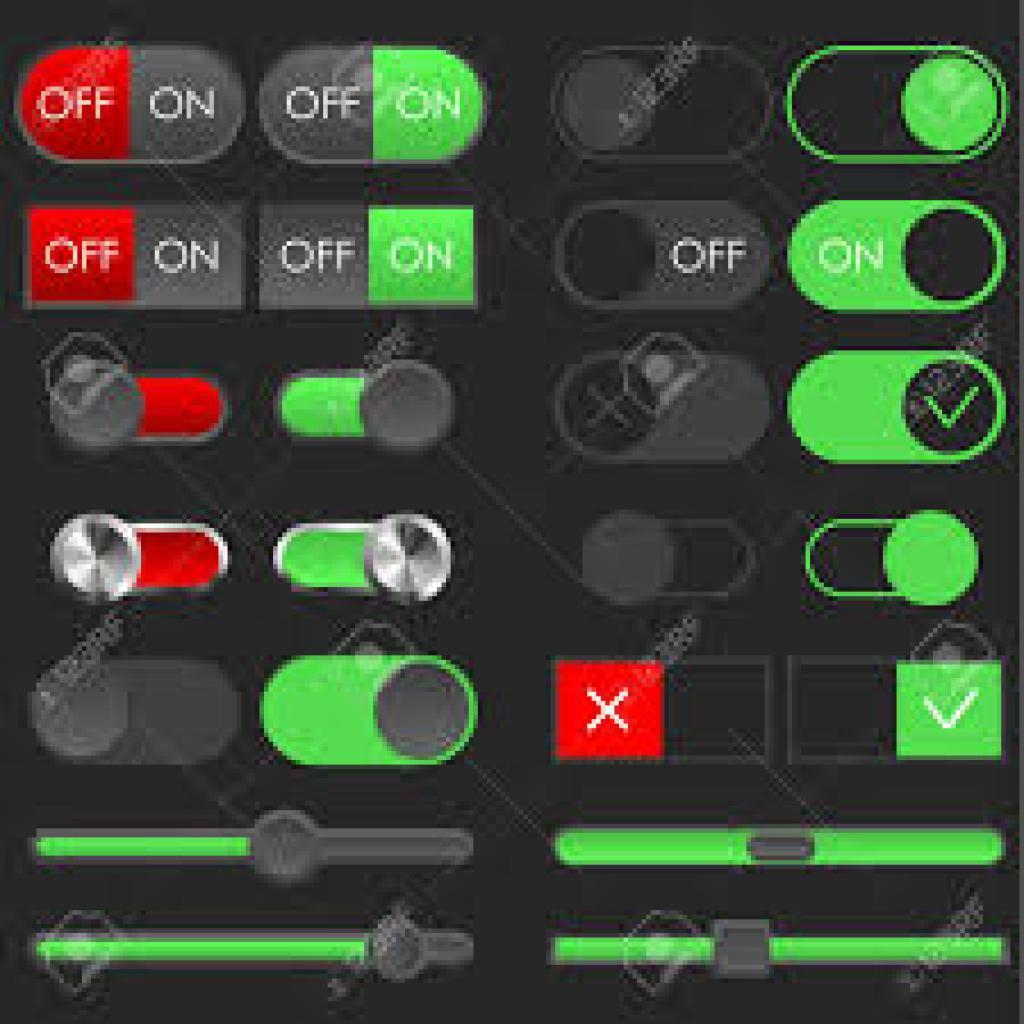slider: (25, 909, 493, 993), (15, 809, 496, 890), (537, 917, 1010, 979), (542, 823, 1016, 870)
switch: (17, 45, 248, 167), (258, 48, 488, 166), (788, 45, 1008, 167), (553, 43, 772, 165), (551, 197, 775, 313), (789, 350, 1008, 467), (789, 199, 1009, 315), (552, 349, 775, 463), (258, 655, 478, 768), (28, 657, 245, 770), (550, 659, 773, 768), (27, 202, 244, 314), (785, 659, 1004, 762), (259, 204, 478, 307), (273, 360, 457, 463), (43, 359, 231, 453), (583, 513, 767, 607), (273, 514, 456, 608), (52, 511, 229, 608), (802, 511, 980, 607)
